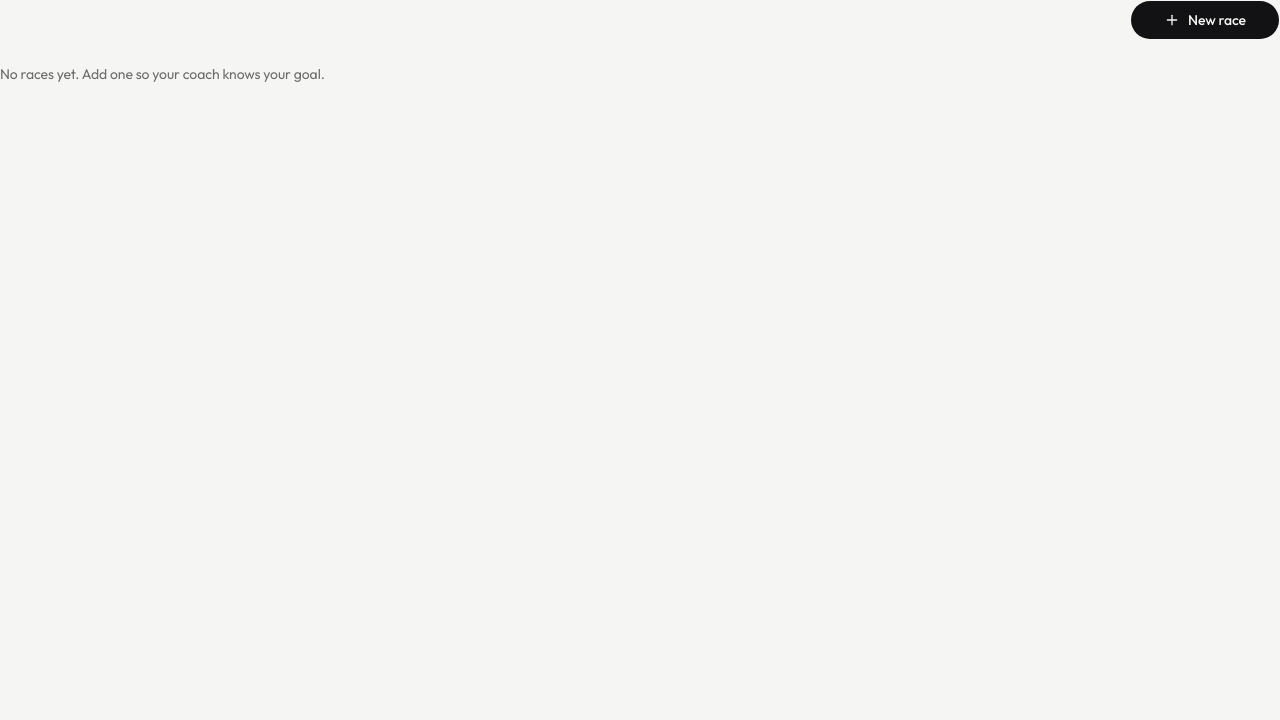
Test case: RacesList › creates a race through the drawer
Later steps or results of the test are not shown.
Click the button with test id "race-new": [1205, 20] box [1130,0,1279,40]
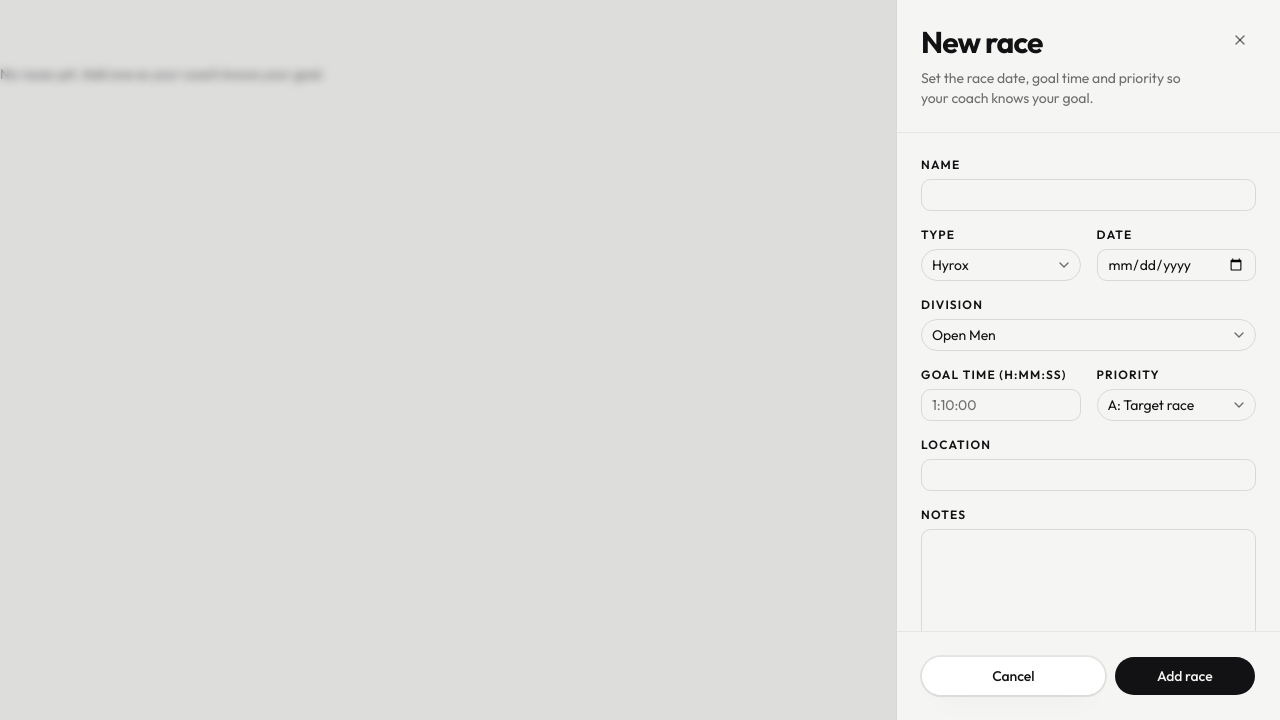
Check: the dialog with test id "race-form-drawer" is shown, box [896,0,1279,719]
Check: the dropdown with test id "race-form-division" shows "Open Men", box [921,319,1256,351]
